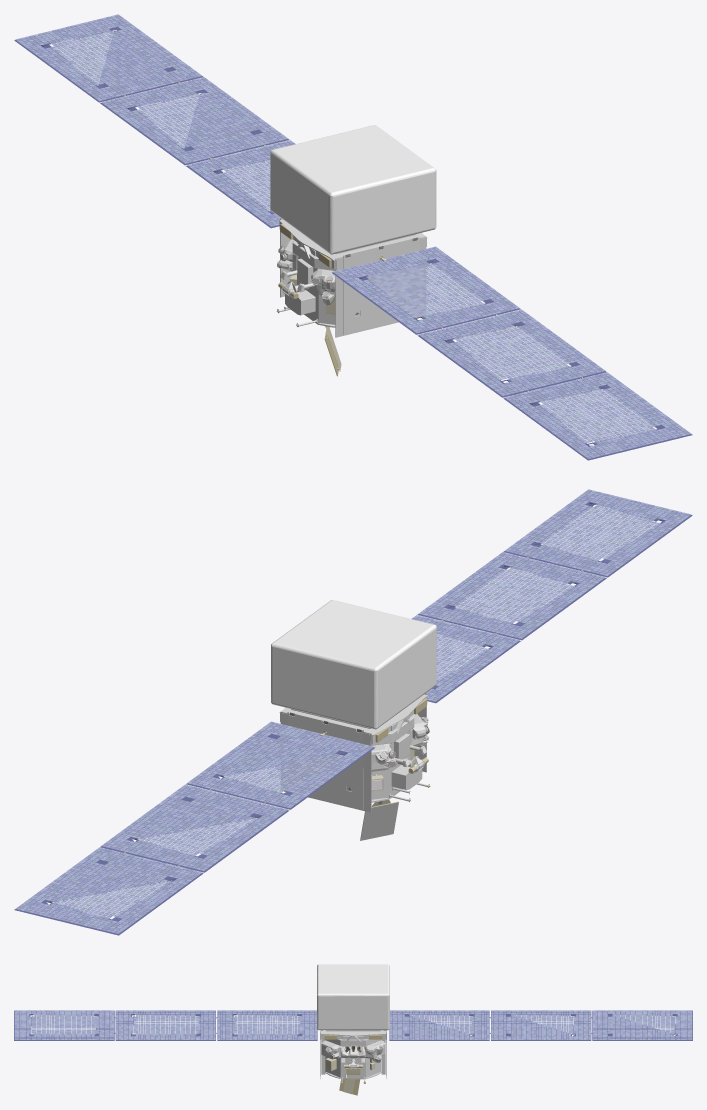
File: fermi.glb
The picture shows the model from 3 angles, top to bottom: view 1: azimuth 30°, elevation 25°; view 2: azimuth 150°, elevation 25°; view 3: azimuth 270°, elevation 25°; orthographic projection. The views are drawn at different scales.
Parts seen in each view (by area): view 1: solar (×9), lat, bus (×4); view 2: solar (×9), lat, bus (×4), ku; view 3: solar (×9), lat, bus (×4).
Boxes of the visible parts, x1,y1,x2,y2 form: solar (×9): [14, 14, 692, 460]; lat: [270, 125, 436, 254]; bus (×4): [277, 219, 427, 337]; solar (×9): [14, 489, 692, 935]; lat: [271, 600, 436, 729]; bus (×4): [279, 694, 429, 812]; ku: [360, 797, 398, 840]; solar (×9): [14, 1010, 692, 1040]; lat: [317, 964, 389, 1030]; bus (×4): [321, 1030, 385, 1083].
Bounding box in the file's own units: 8.54 × 12.1 × 62.31.
